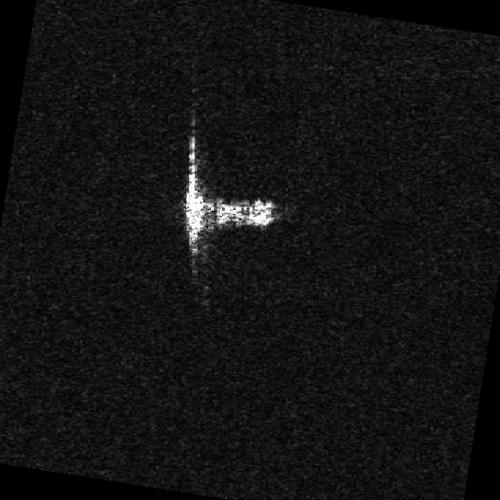ship: (184, 199, 287, 228)
